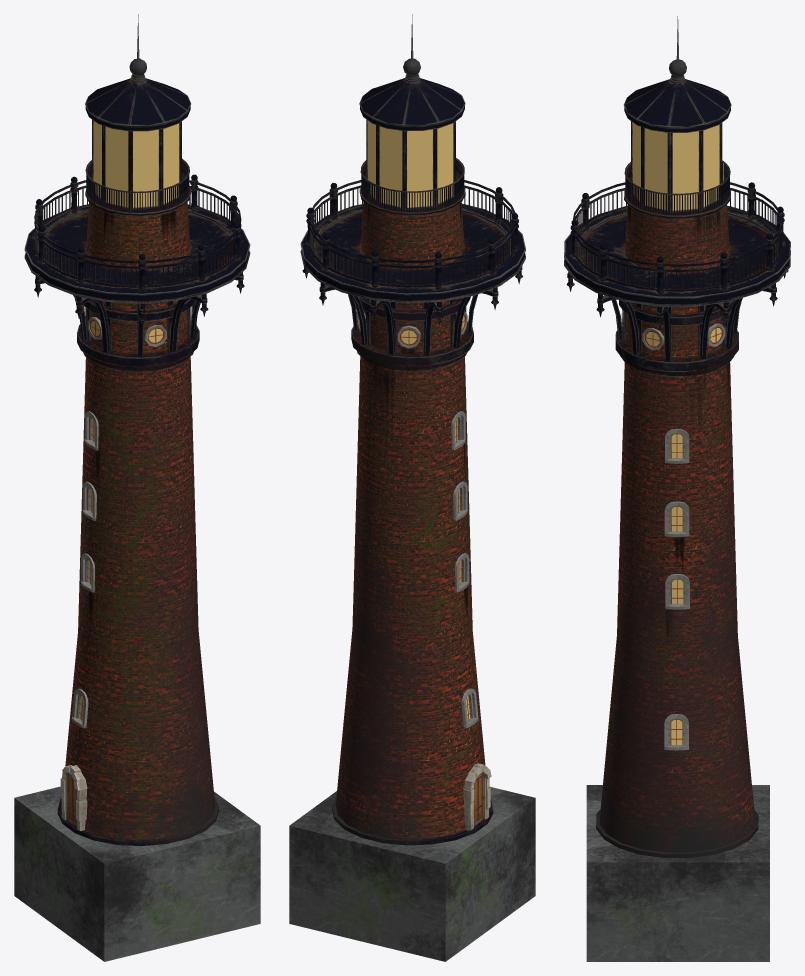
The model's file is lighthouse.obj.
3 renders of one model, left to right at view 1: azimuth 30°, elevation 25°; view 2: azimuth 150°, elevation 25°; view 3: azimuth 270°, elevation 25°, orthographic.
Visible parts, largest first — view 1: lighthouse; view 2: lighthouse; view 3: lighthouse.
Boxes of the visible parts, left/top/right/bottom form: lighthouse: left=14, top=14, right=260, bottom=961; lighthouse: left=289, top=14, right=535, bottom=961; lighthouse: left=564, top=16, right=790, bottom=961.
Bounding box in the file's own units: 4.29 × 18.96 × 4.29.
1 material, 1 textured.
